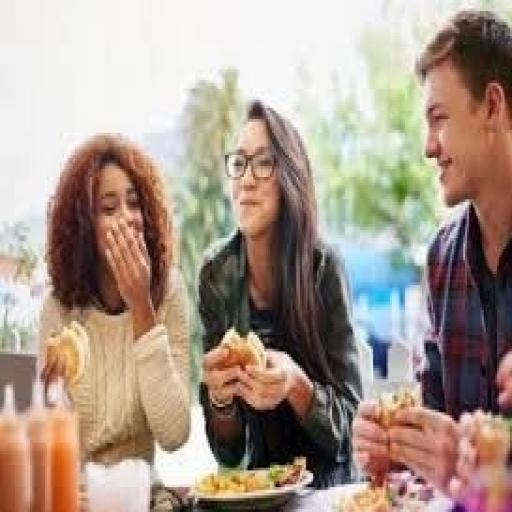eating: (349, 6, 510, 509), (195, 94, 366, 487), (36, 130, 193, 509)
